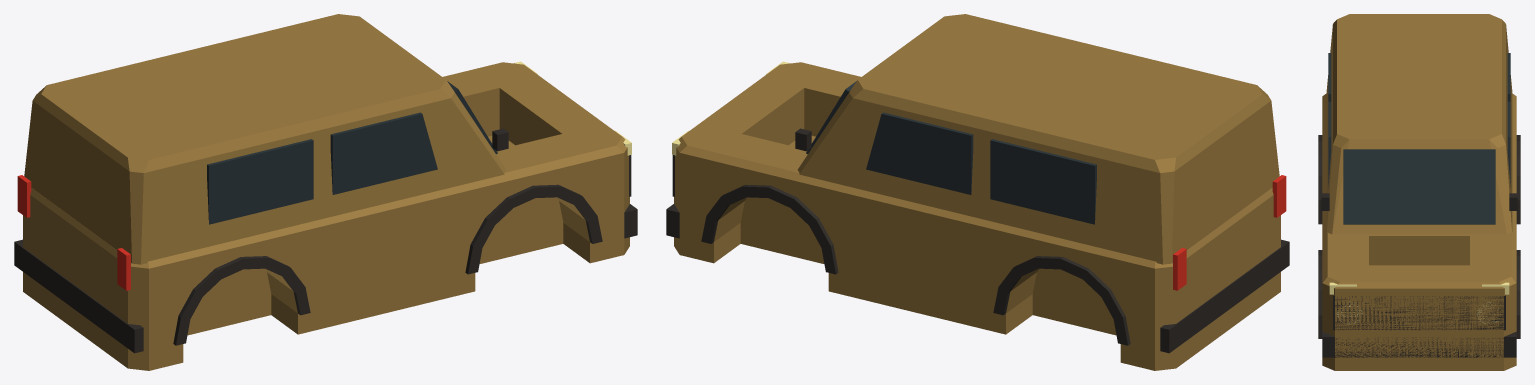
Rendered from base_niva.glb.
3 views of the same model, side by side, from view 1: azimuth 30°, elevation 25°; view 2: azimuth 150°, elevation 25°; view 3: azimuth 270°, elevation 25° (orthographic). The views are drawn at different scales.
Parts seen in each view (by area): view 1: base_niva; view 2: base_niva; view 3: base_niva.
Part boxes in pixels (x1,y1,x2,y2): base_niva: [14, 14, 637, 370]; base_niva: [666, 14, 1289, 370]; base_niva: [1318, 14, 1520, 370].
Bounding box in the file's own units: 4.5 × 1.72 × 1.94.
